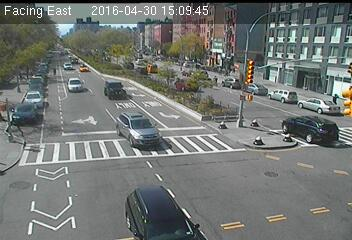neg: (230, 46, 264, 93), (107, 125, 137, 165), (273, 39, 302, 78), (58, 73, 84, 108), (140, 183, 166, 217), (29, 164, 55, 198), (198, 103, 221, 134), (252, 158, 275, 188), (114, 38, 136, 66), (178, 23, 198, 50), (290, 114, 309, 139), (247, 124, 264, 148), (15, 102, 29, 121), (167, 76, 179, 91)
pos: (51, 63, 60, 76)
